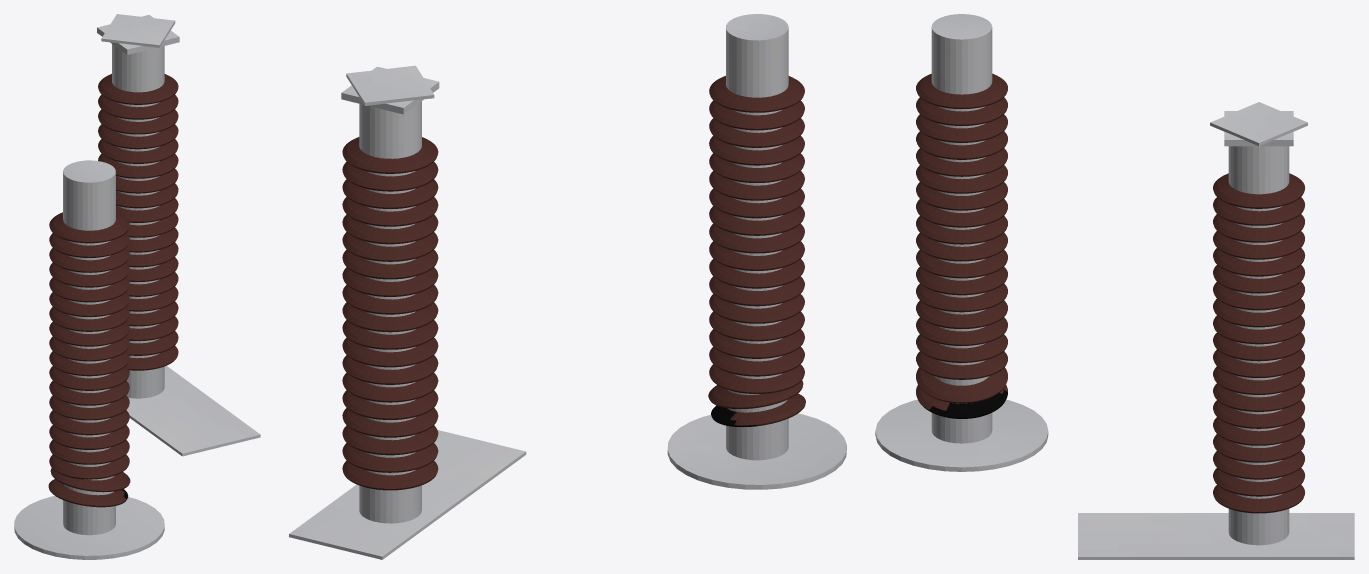
Rendered from izol2_defect.fbx.
3 renders of one model, left to right at view 1: azimuth 30°, elevation 25°; view 2: azimuth 150°, elevation 25°; view 3: azimuth 270°, elevation 25°, orthographic. The views are drawn at different scales.
Parts seen in each view (by area): view 1: Cone.024, Cube.246; view 2: Cone.024, Cube.246; view 3: Cone.024, Cube.246.
Boxes of the visible parts, x1,y1,x2,y2 form: Cone.024: [48, 74, 178, 507]; Cube.246: [14, 14, 260, 559]; Cone.024: [342, 75, 805, 490]; Cube.246: [289, 14, 846, 559]; Cone.024: [916, 73, 1305, 513]; Cube.246: [875, 14, 1354, 559].
Size of the model in its own units: 110 by 132 by 139.
3 materials, 1 textured.
